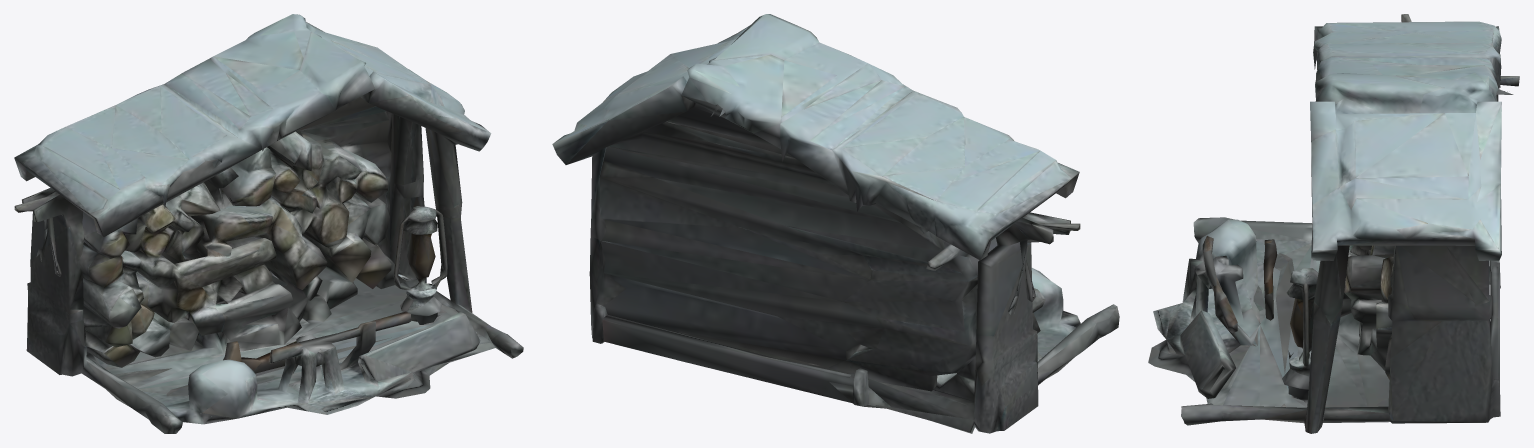
Rendered from woodpile.glb.
The picture shows the model from 3 angles, left to right: view 1: azimuth 30°, elevation 25°; view 2: azimuth 150°, elevation 25°; view 3: azimuth 270°, elevation 25°; orthographic projection. The views are drawn at different scales.
Size of the model in its own units: 1.9 by 1.13 by 1.27.
Materials: 1 (1 with a texture image).
